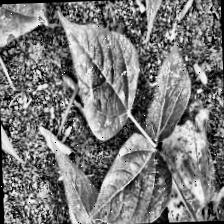ALS: (61, 14, 133, 140), (0, 2, 45, 55), (75, 192, 122, 224)
